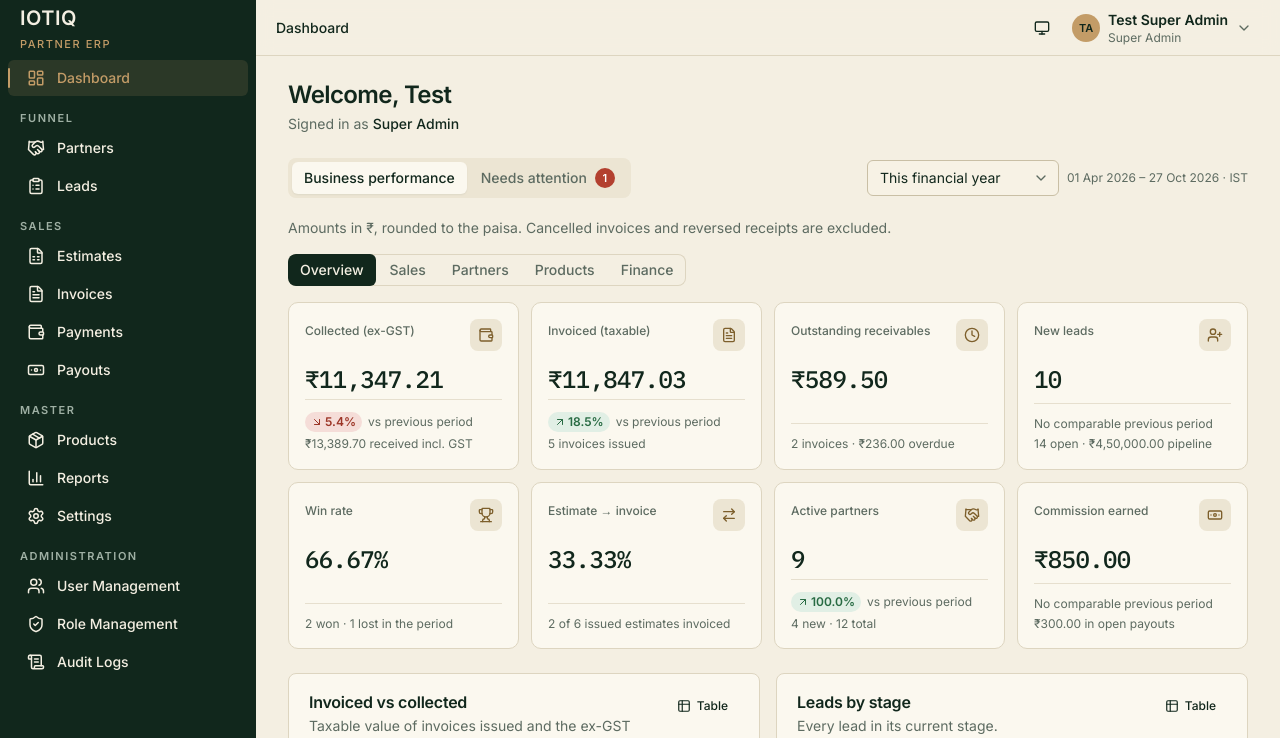
Test: executive dashboard › refetches for a preset and only sends a custom range once it is complete and in order
Later steps or results of the test are not shown.
expect the link "Collected (ex-GST)" is shown: met, box [288,302,519,470]
Select "Last month" in the dropdown named "Period": (963, 178) [867,160,1059,196]
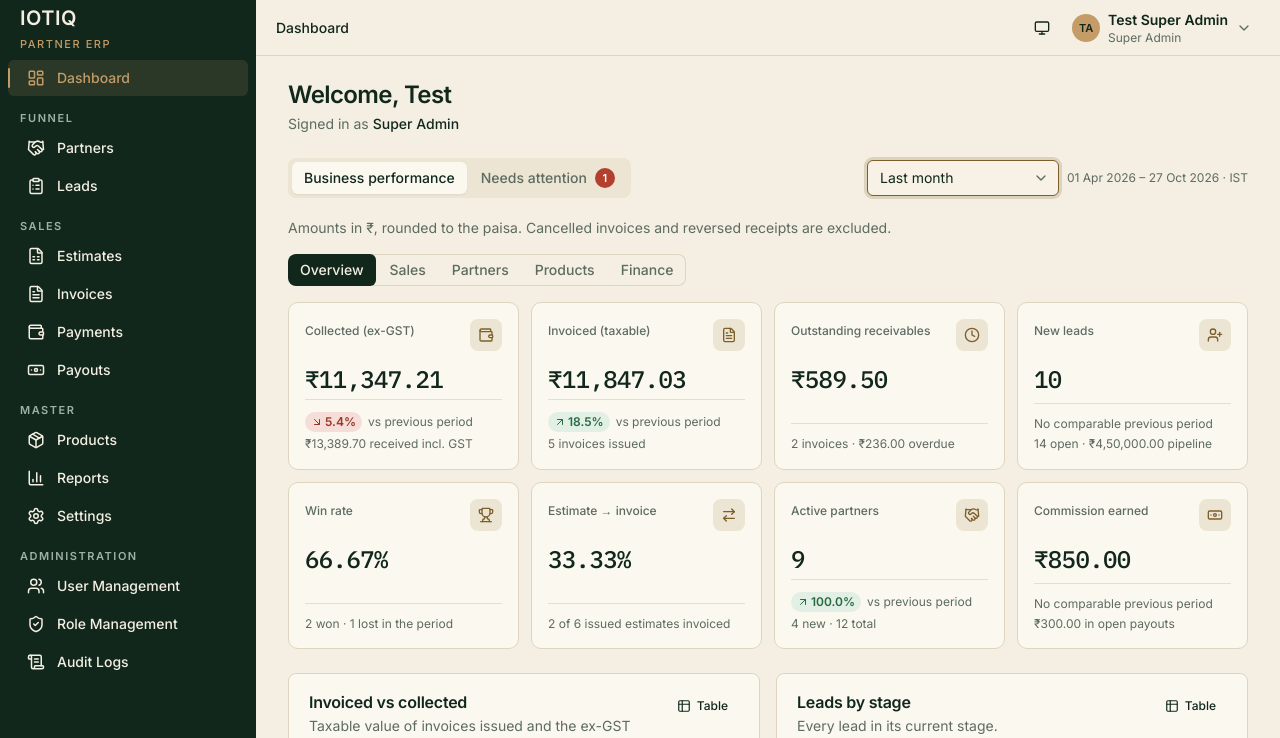
Select "Custom range" in the dropdown named "Period": (963, 178) [867,160,1059,196]
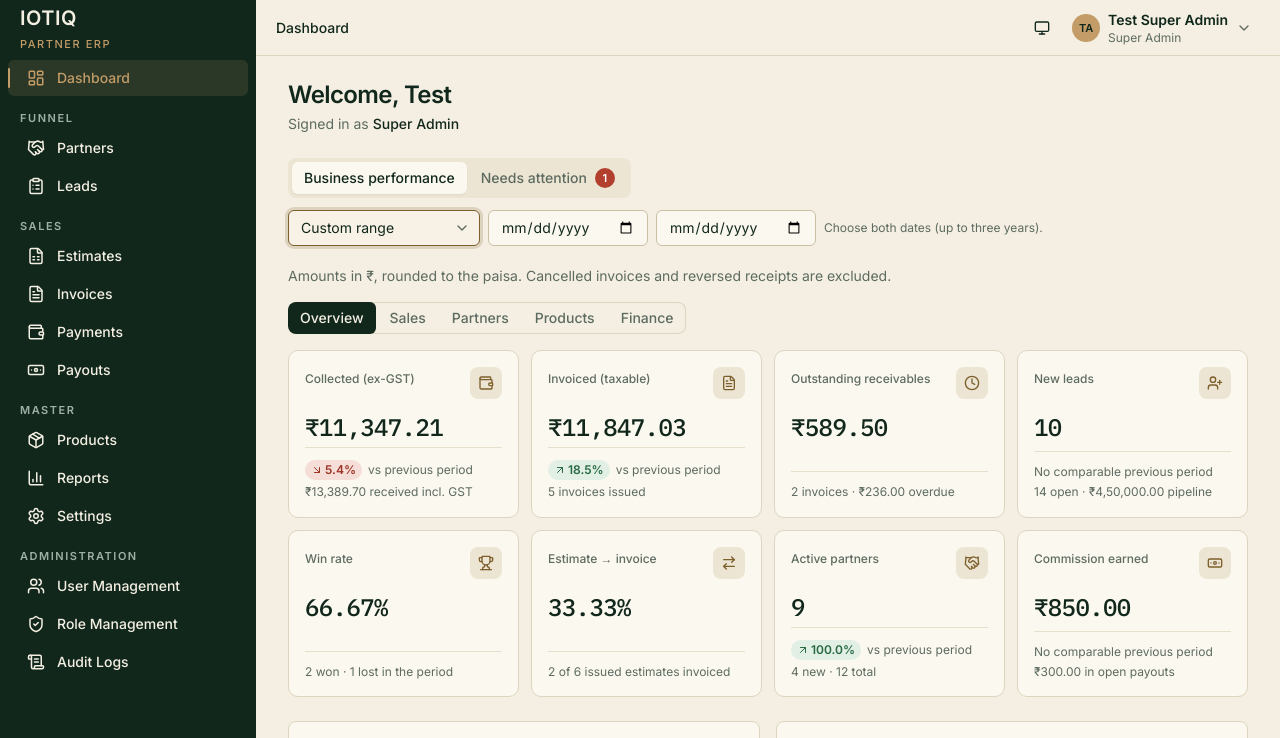
expect the text "Choose both dates (up to three years)." is shown: met, box [824,220,1043,236]
In the date field named "From date": (568, 228) [488,210,648,246], type "2026-06-30"
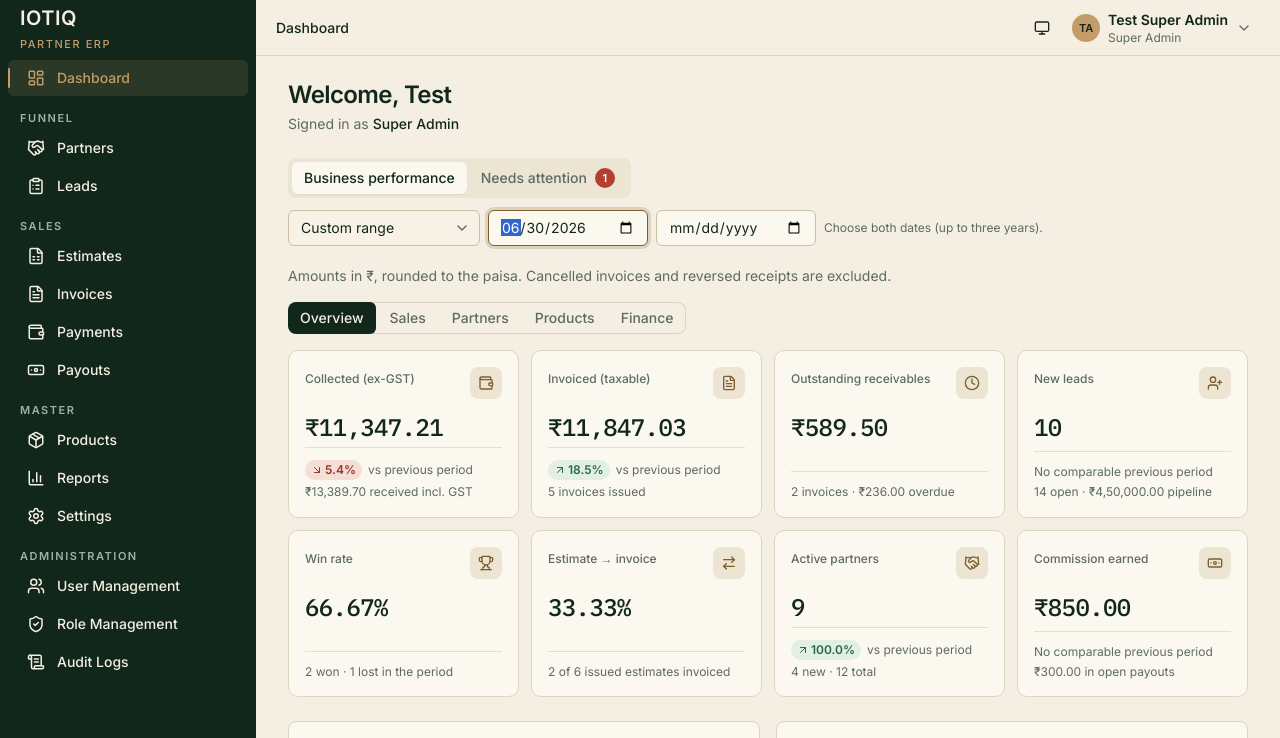
In the date field named "To date": (736, 228) [656,210,816,246], type "2026-06-01"
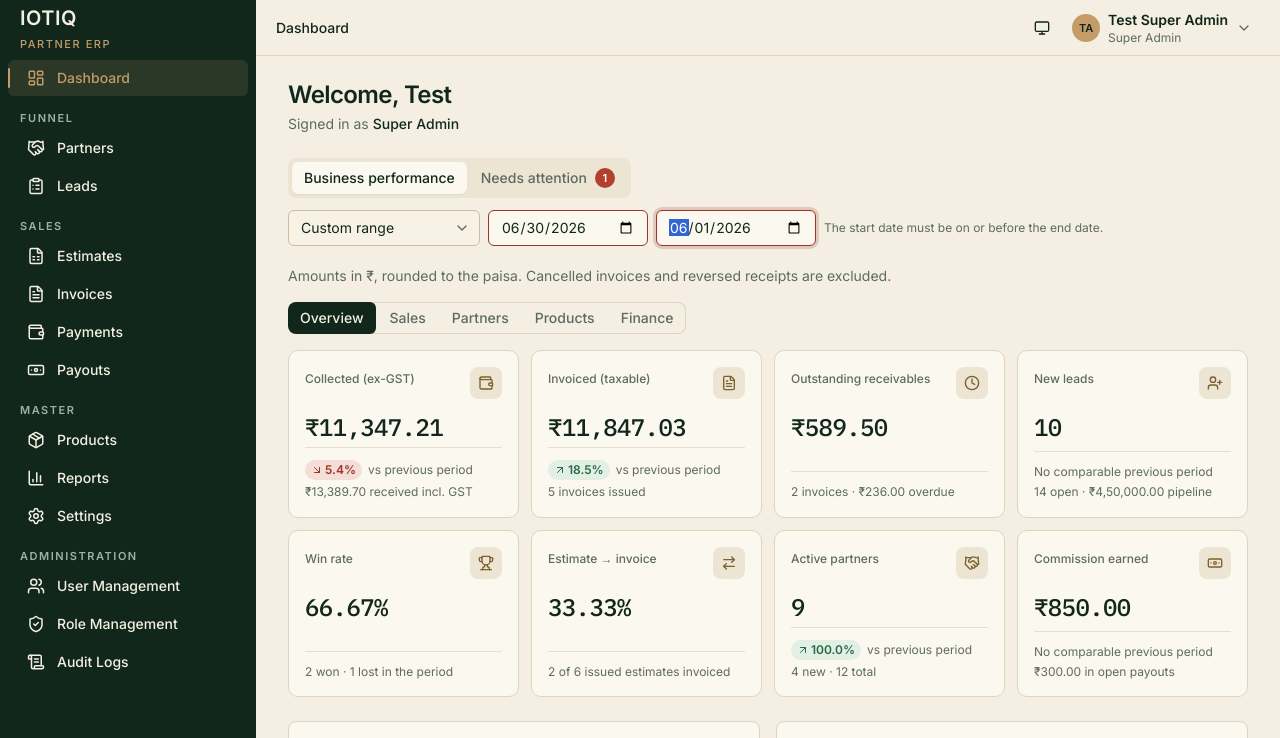
expect the text "The start date must be on or before the end date." is shown: met, box [824,220,1103,236]
